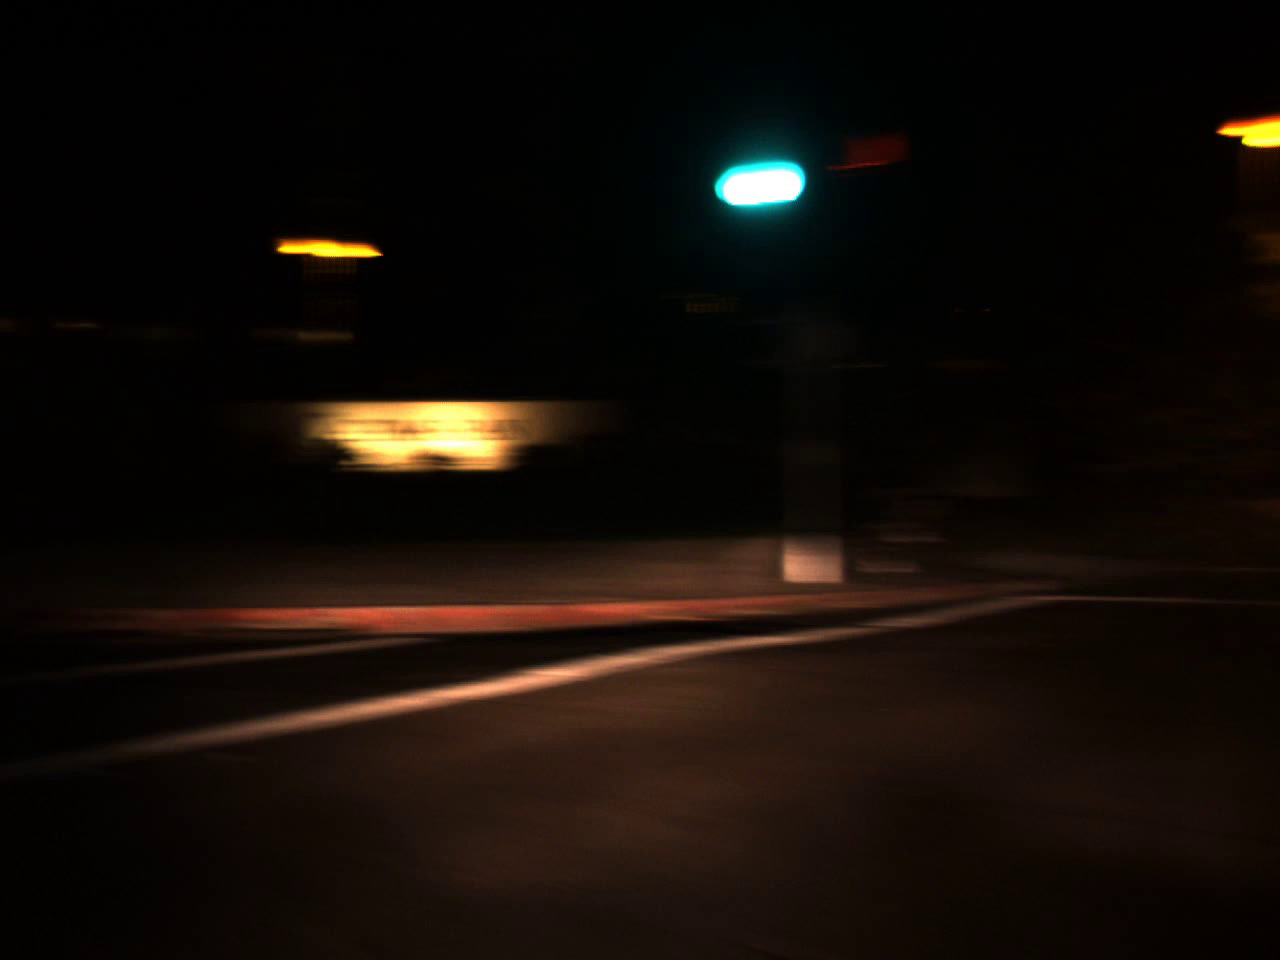go: (701, 107, 818, 224)
